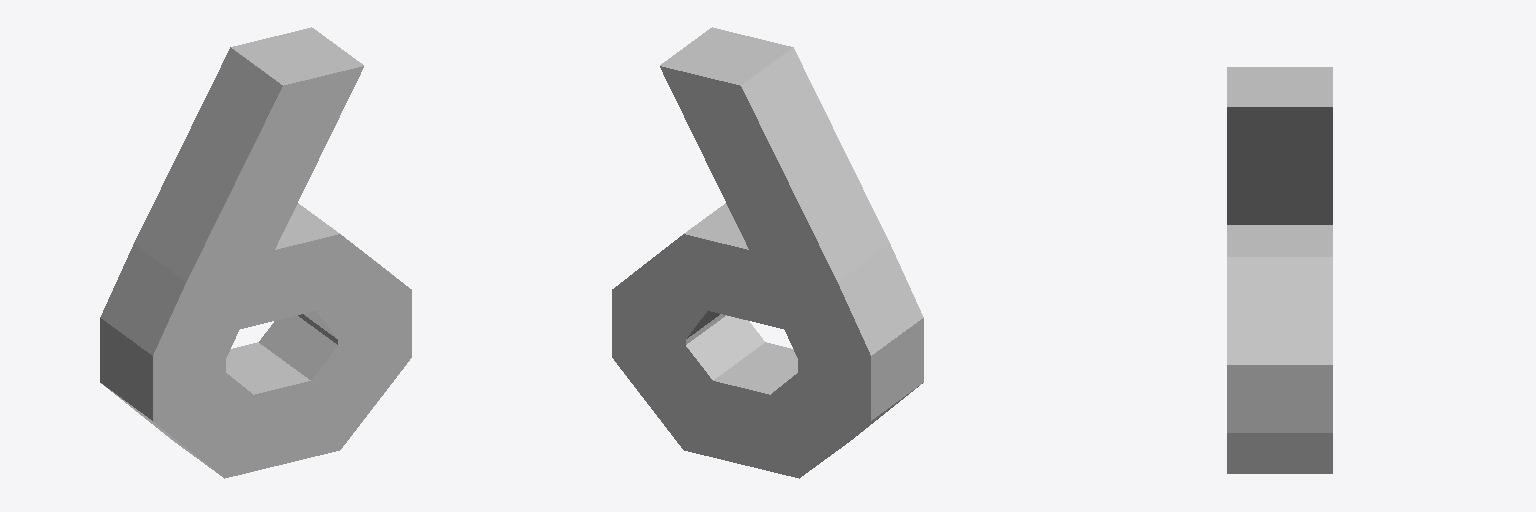
The picture shows the model from 3 angles: view 1: azimuth 30°, elevation 25°; view 2: azimuth 150°, elevation 25°; view 3: azimuth 270°, elevation 25°; orthographic projection.
Parts seen in each view (by area): view 1: text: ABCDEFGHIJKLMNOPQRSTUVWXYZ[number redacted]; view 2: text: ABCDEFGHIJKLMNOPQRSTUVWXYZ[number redacted]; view 3: text: ABCDEFGHIJKLMNOPQRSTUVWXYZ[number redacted].
Boxes of the visible parts, <box> form: text: ABCDEFGHIJKLMNOPQRSTUVWXYZ[number redacted]: <box>100,27,411,478</box>; text: ABCDEFGHIJKLMNOPQRSTUVWXYZ[number redacted]: <box>612,27,923,478</box>; text: ABCDEFGHIJKLMNOPQRSTUVWXYZ[number redacted]: <box>1227,67,1332,473</box>.
Bounding box in the file's own units: 71.06 × 99.29 × 25.